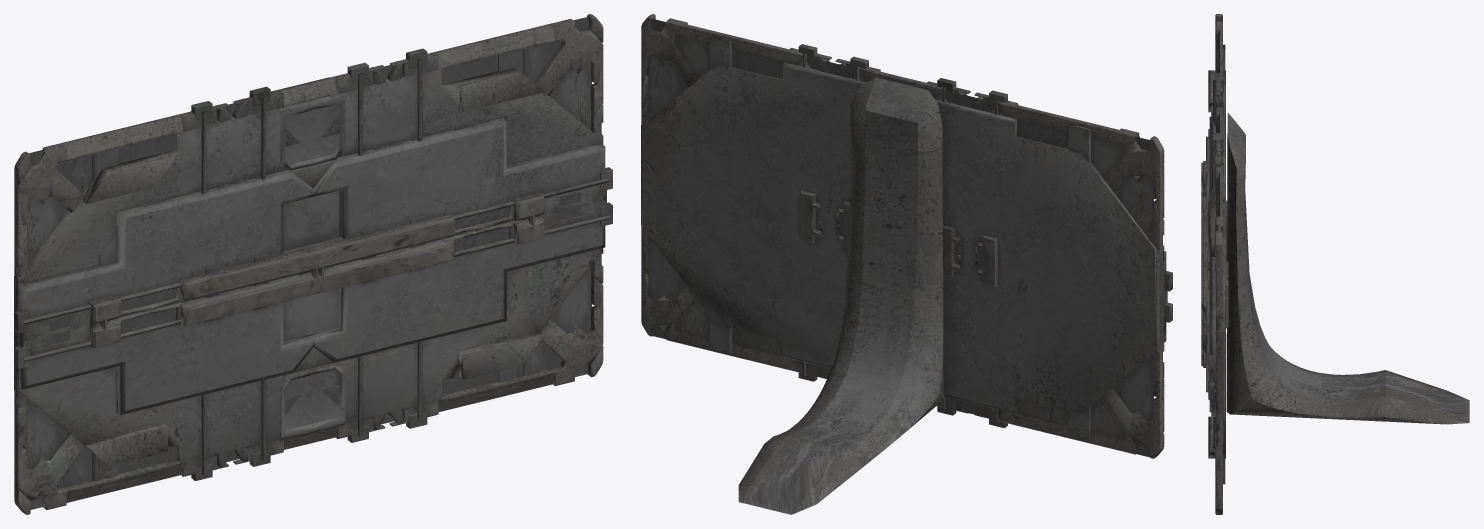
Rendered from barrier_steel.glb.
3 views of the same model, side by side, from view 1: azimuth 30°, elevation 25°; view 2: azimuth 150°, elevation 25°; view 3: azimuth 270°, elevation 25° (orthographic). The views are drawn at different scales.
Visible parts, largest first — view 1: Wall_1; view 2: Wall_1; view 3: Wall_1.
Boxes of the visible parts, box(x1,y1,x2,y2) form: Wall_1: box(14, 14, 612, 514); Wall_1: box(641, 14, 1172, 514); Wall_1: box(1201, 14, 1469, 514).
Size of the model in its own units: 1 by 0.6034 by 0.4957.
1 material, 1 textured.
